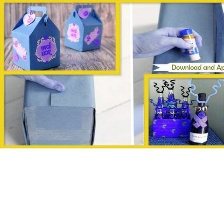carton: (8, 3, 61, 71), (62, 2, 108, 54)
